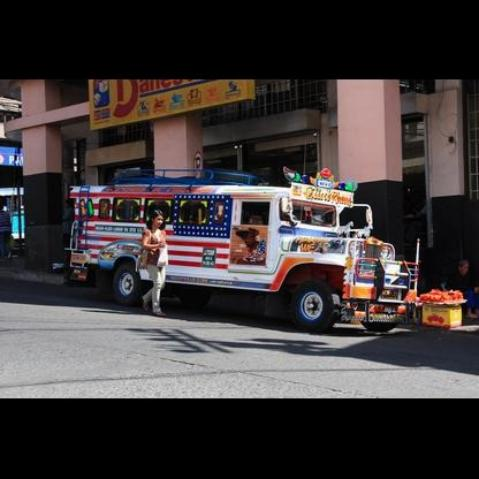jeepney: (57, 165, 421, 343)
